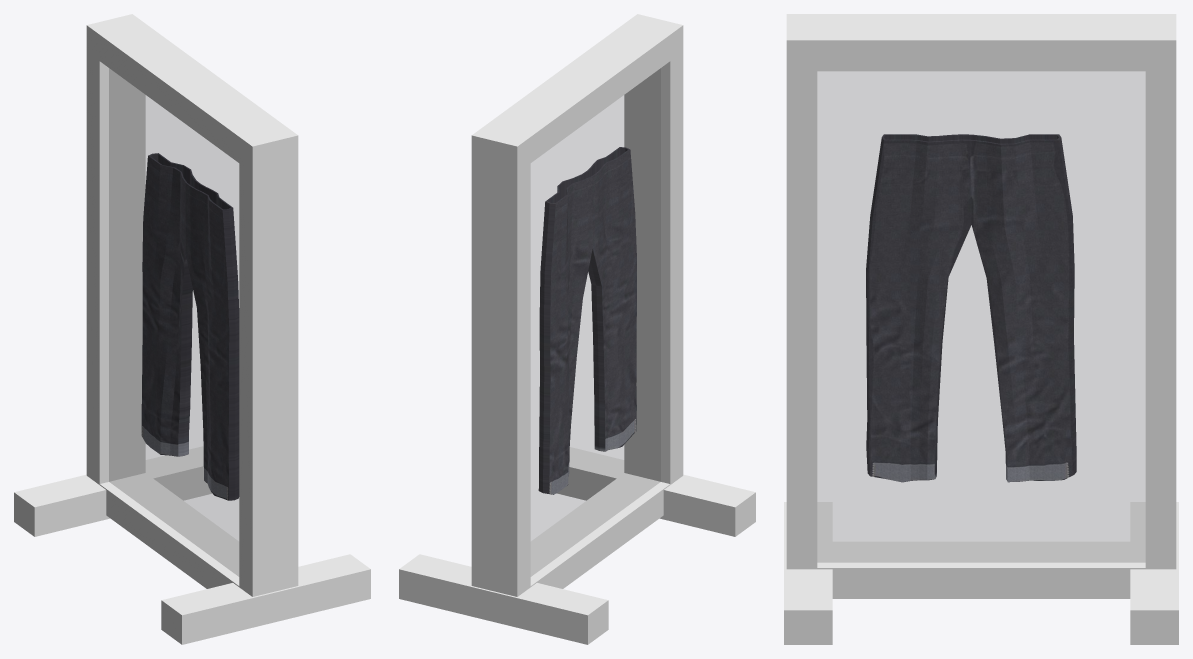
The model's file is jack_o.gltf.
3 views of the same model, side by side, from view 1: azimuth 30°, elevation 25°; view 2: azimuth 150°, elevation 25°; view 3: azimuth 270°, elevation 25° (orthographic). The views are drawn at different scales.
Visible parts, largest first — view 1: Cube.116, Plane.062; view 2: Cube.116, Plane.062; view 3: Cube.116, Plane.062.
Boxes of the visible parts, x1=… form: Cube.116: x1=14, y1=14, x2=370, y2=644; Plane.062: x1=141, y1=153, x2=239, y2=500; Cube.116: x1=399, y1=14, x2=755, y2=644; Plane.062: x1=538, y1=147, x2=636, y2=494; Cube.116: x1=784, y1=14, x2=1178, y2=644; Plane.062: x1=866, y1=134, x2=1076, y2=482.
Bounding box in the file's own units: 0.2894 × 0.7029 × 0.4462.
Materials: 4 (1 with a texture image).
